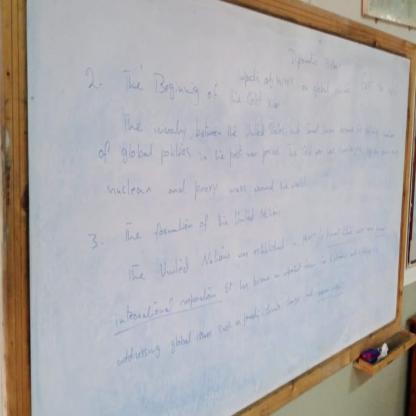Handwritten text: (106, 274, 321, 376), (102, 239, 322, 337), (121, 227, 293, 293), (117, 189, 288, 247), (115, 64, 286, 121), (93, 129, 336, 168), (101, 168, 310, 206), (120, 111, 336, 141), (232, 58, 359, 106), (286, 42, 346, 74)
